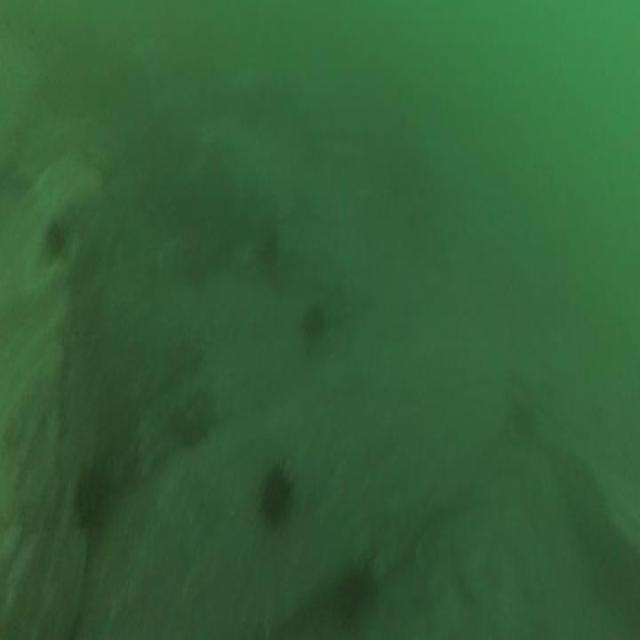echinus: (78, 468, 108, 531), (339, 570, 366, 628), (260, 471, 289, 521), (42, 220, 69, 264), (302, 305, 323, 332)
